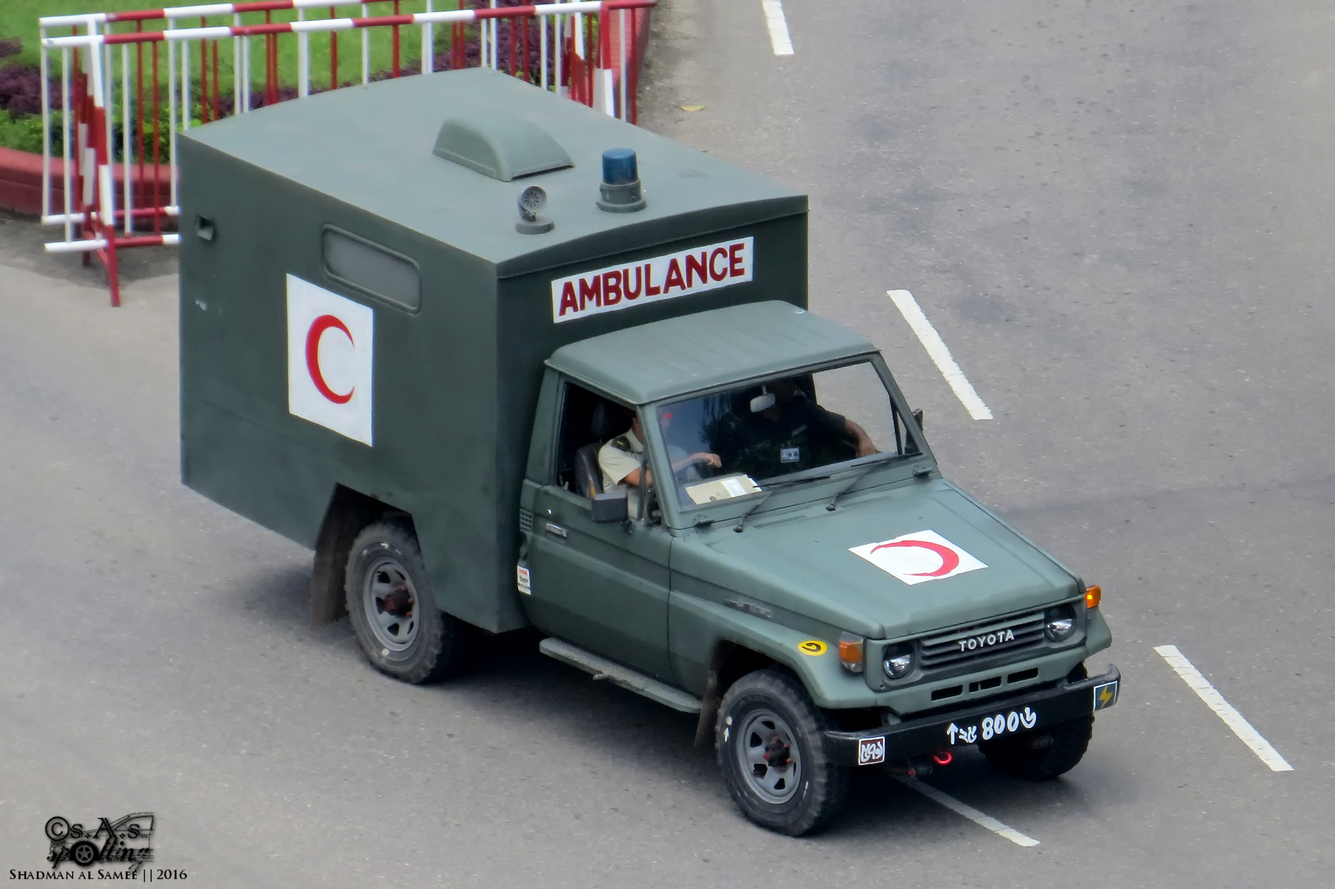Ambulance: (147, 47, 1126, 859)
